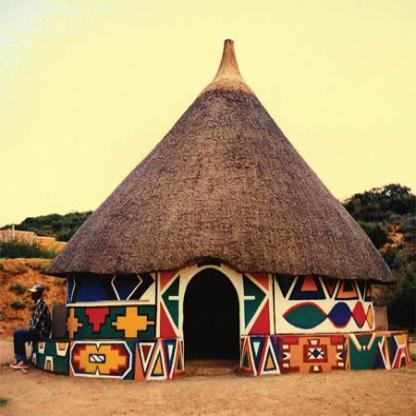Building Outline: (31, 40, 412, 380)
Dont: (7, 283, 52, 369), (51, 302, 67, 339)
Door: (184, 269, 240, 378)
Facade: (77, 232, 365, 371)
Ground Floor: (77, 232, 365, 371)
Roof: (43, 40, 398, 284)
